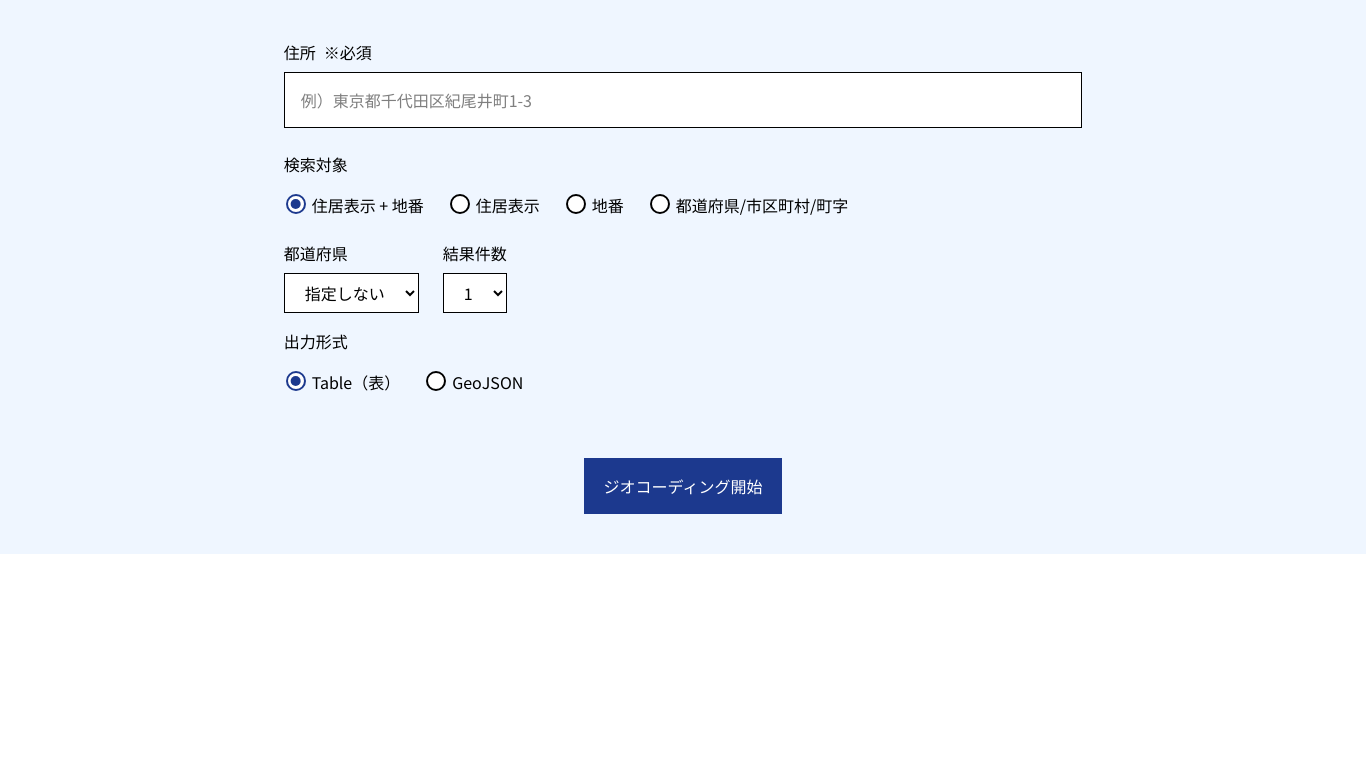
Test: OneLineGeocodingコンポーネント › ジオコーディング結果が表示される › 必須入力エラー
# 住所入力→削除して空文字に
Type "test" into the field with test id "input-address".
click(683, 100); type("test")  # box [284,72,1082,128]
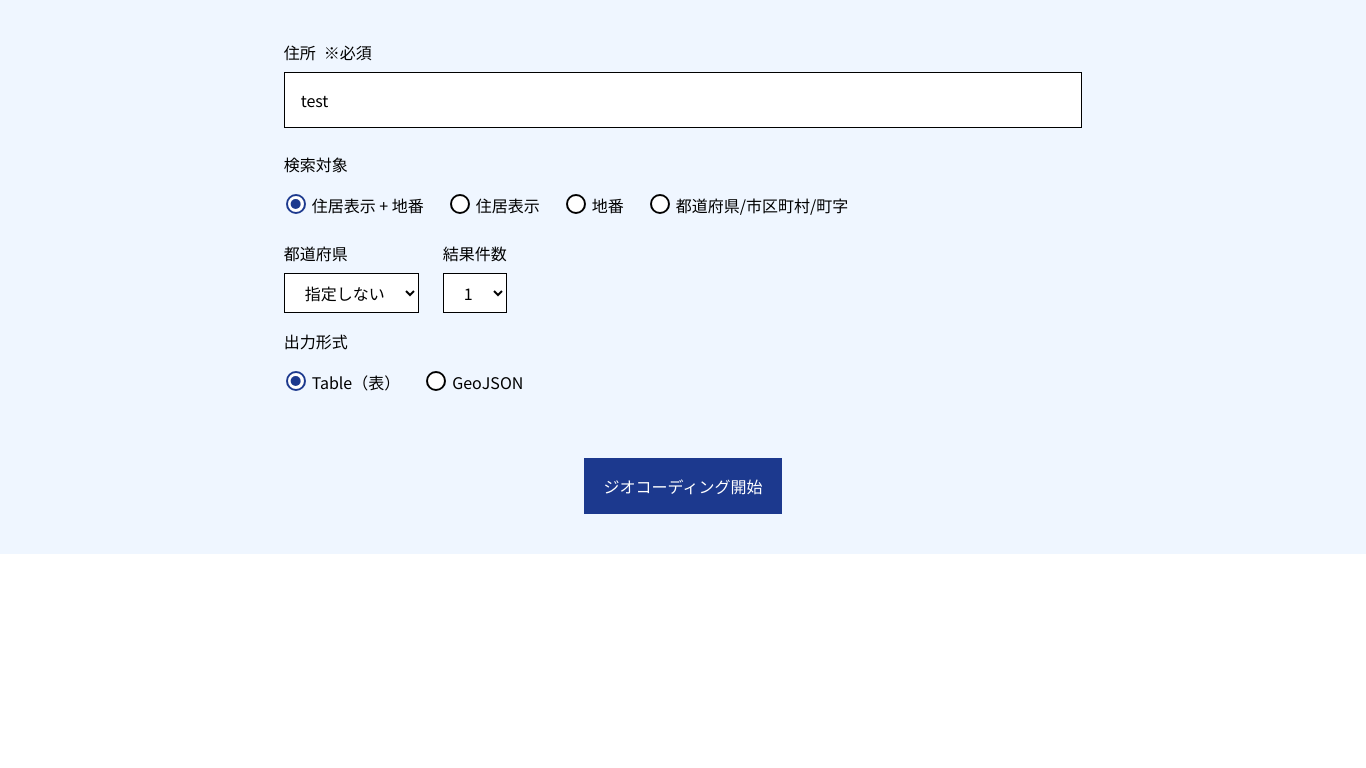
Clear the field with test id "input-address" at (683, 100), box [284,72,1082,128]
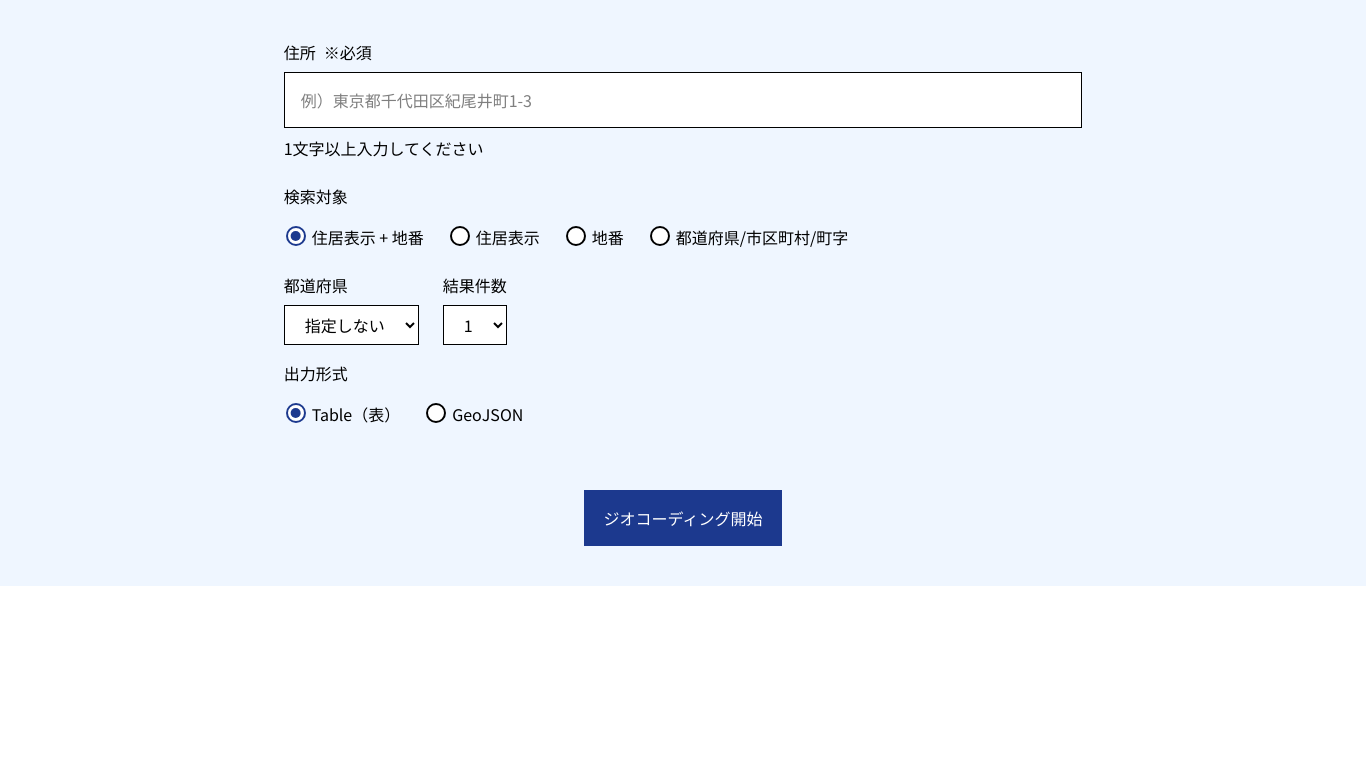
Check: the text "1文字以上入力してください" is shown, box [284,136,484,160]
